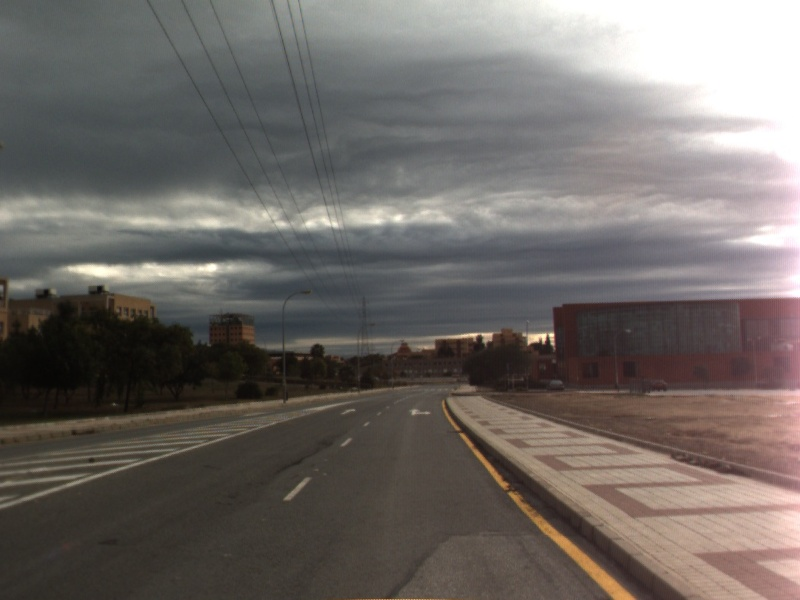STRAIGHT: (338, 406, 358, 417)
STRAIGHT_RIGHT: (406, 406, 433, 418)
